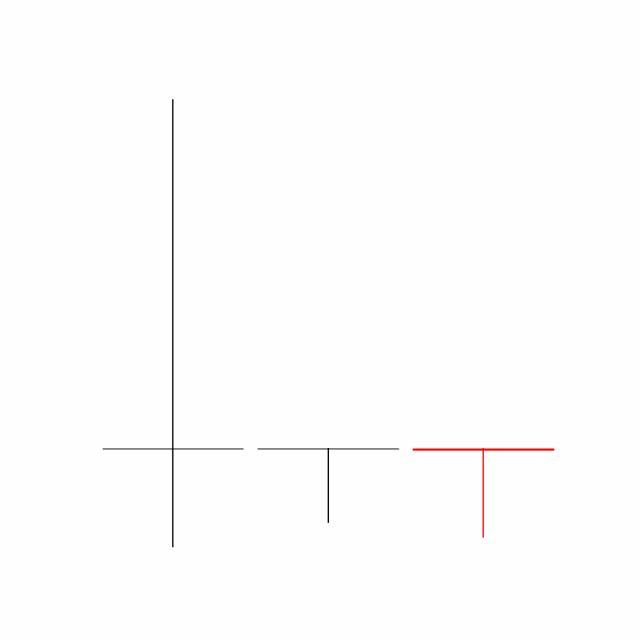Dragonfly Doji: (406, 447, 562, 540)
